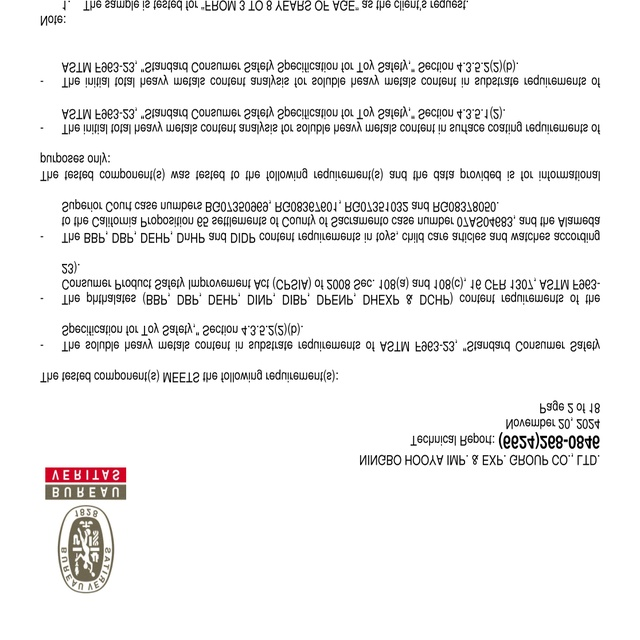bureau_veritas: (42, 462, 131, 596)
